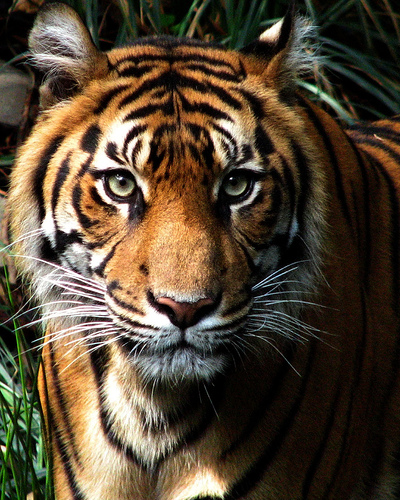Tigre: (12, 8, 364, 437)
